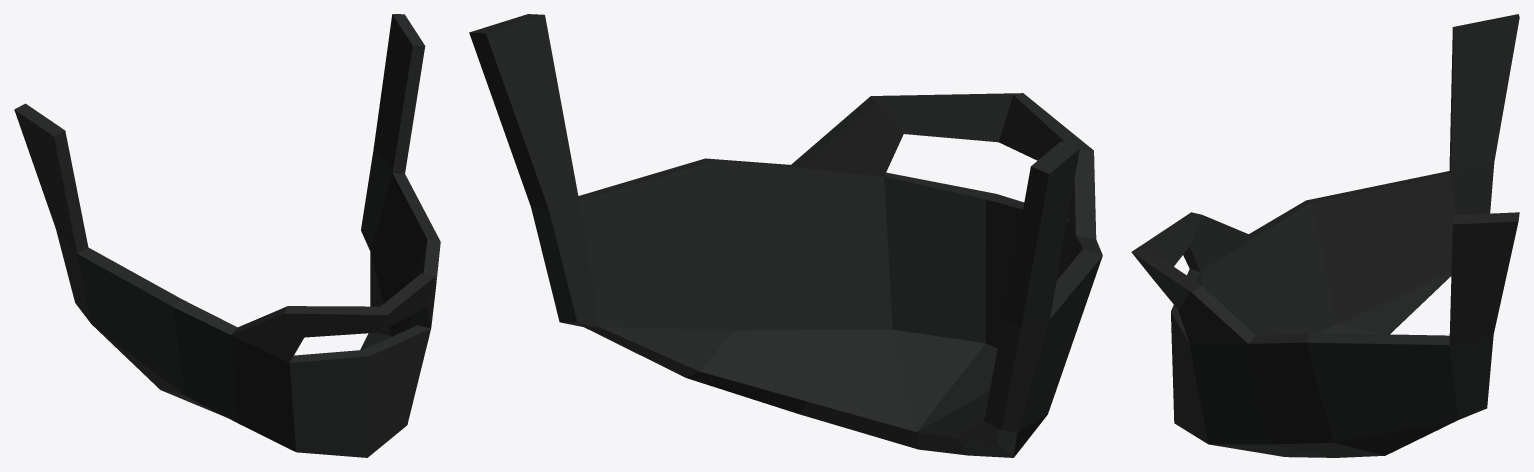
File: Bread.fbx
The picture shows the model from 3 angles, left to right: view 1: azimuth 30°, elevation 25°; view 2: azimuth 150°, elevation 25°; view 3: azimuth 270°, elevation 25°; orthographic projection. The views are drawn at different scales.
Visible parts, largest first — view 1: Bread; view 2: Bread; view 3: Bread.
Boxes of the visible parts, <box> form: Bread: <box>14,14,440,457</box>; Bread: <box>469,14,1102,457</box>; Bread: <box>1131,14,1519,457</box>.
Bounding box in the file's own units: 32.06 × 24.65 × 25.36.
